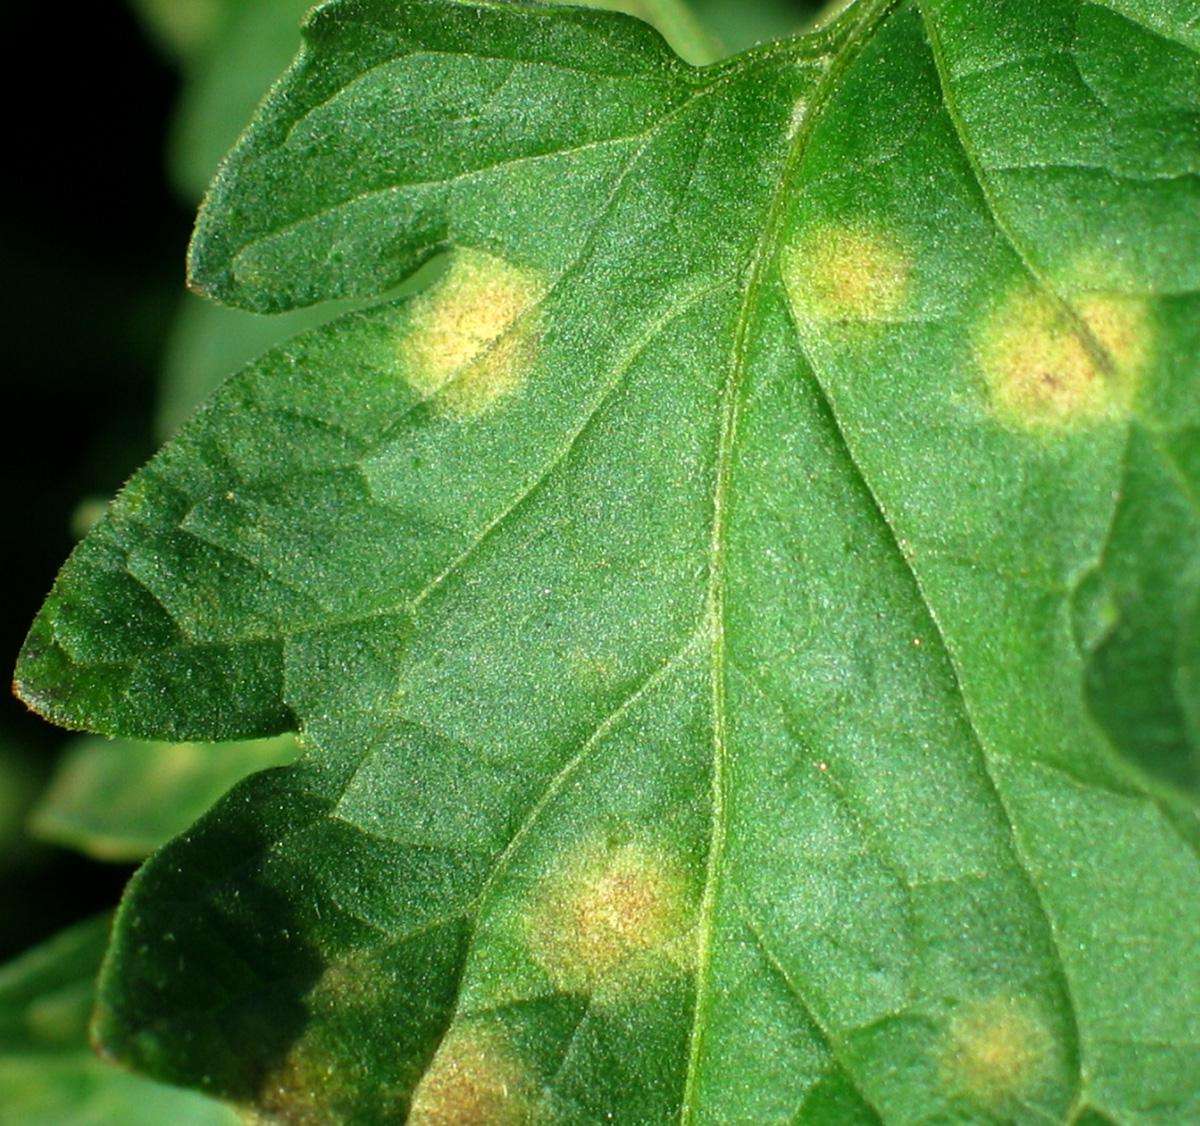Tomato mold leaf: (26, 14, 1185, 1126)
